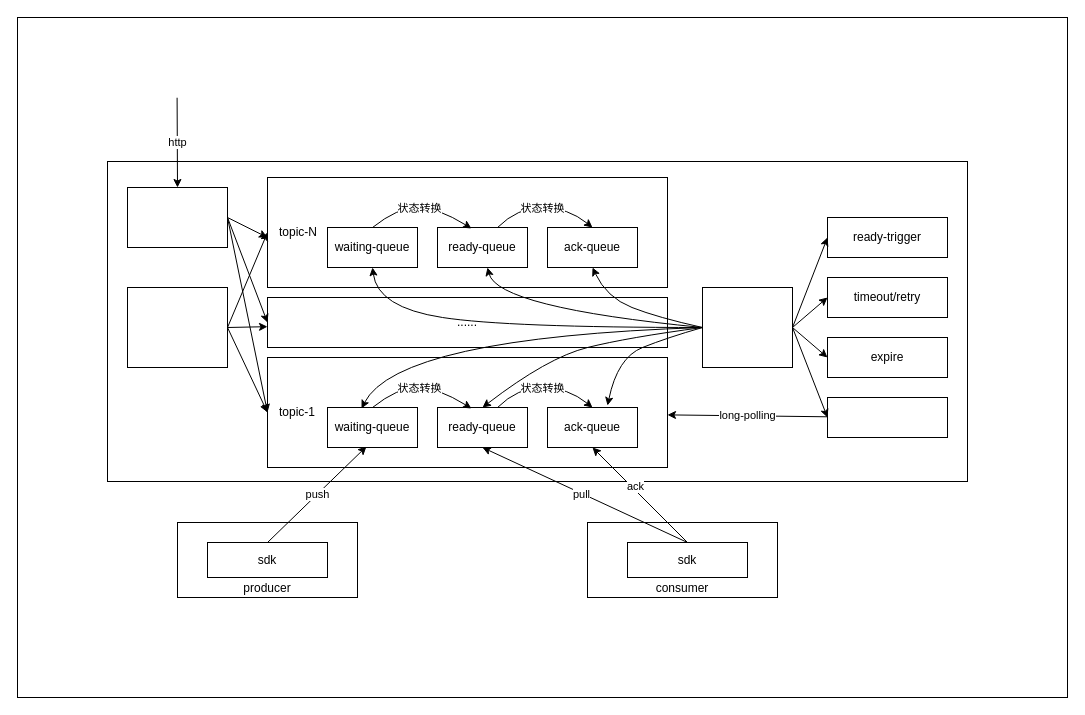
This 1085x715 diagram has some shape labels left out. The centre of each missing label's shape, as x and y in pixels:
"monitor" goes at (x=177, y=217).
"msg-schedule" goes at (x=747, y=327).
"notify" goes at (x=887, y=417).
"topic-manager" goes at (x=177, y=327).
